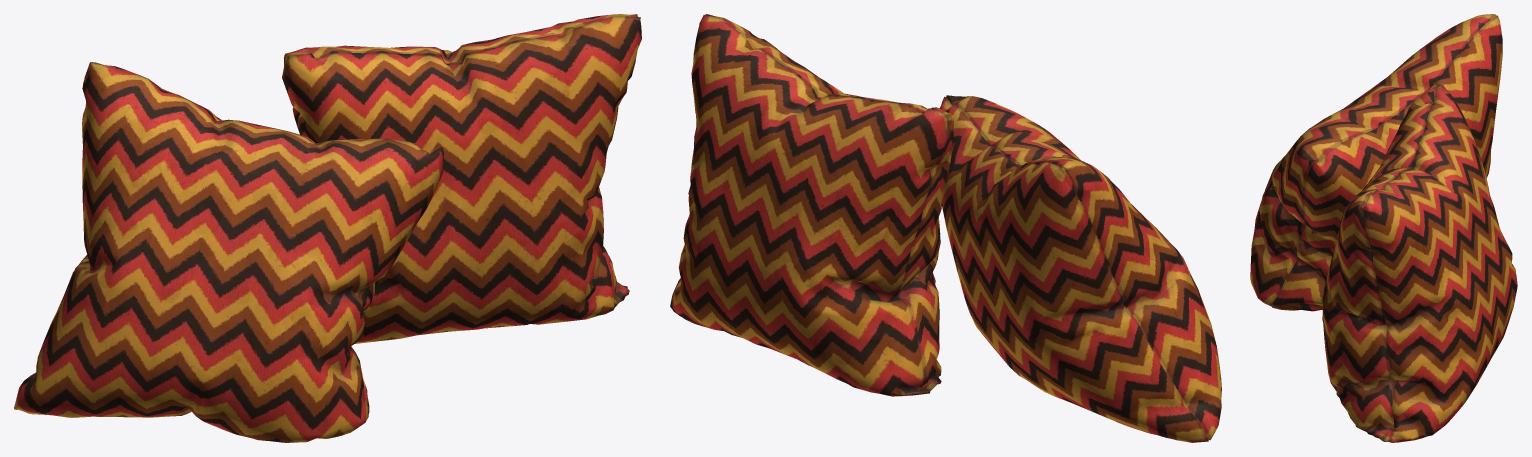
File: throw_pillows_01.gltf
3 views of the same model, side by side, from view 1: azimuth 30°, elevation 25°; view 2: azimuth 150°, elevation 25°; view 3: azimuth 270°, elevation 25° (orthographic). The views are drawn at different scales.
Visible parts, largest first — view 1: throw_pillows_01_pillow01, throw_pillows_01_pillow02; view 2: throw_pillows_01_pillow02, throw_pillows_01_pillow01; view 3: throw_pillows_01_pillow02, throw_pillows_01_pillow01.
Part boxes in pixels (bbox=[...]): throw_pillows_01_pillow01: bbox=[14, 62, 443, 442]; throw_pillows_01_pillow02: bbox=[282, 14, 641, 343]; throw_pillows_01_pillow02: bbox=[670, 14, 953, 396]; throw_pillows_01_pillow01: bbox=[939, 95, 1221, 442]; throw_pillows_01_pillow02: bbox=[1322, 84, 1517, 442]; throw_pillows_01_pillow01: bbox=[1250, 14, 1502, 311].
Bounding box in the file's own units: 0.9401 × 0.4502 × 0.4519.
1 material, 1 textured.
